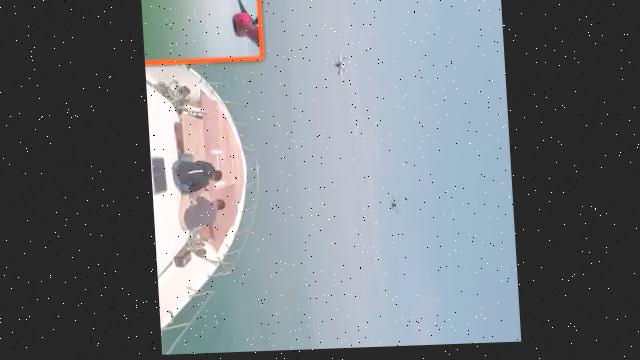drone: (140, 0, 247, 356)
